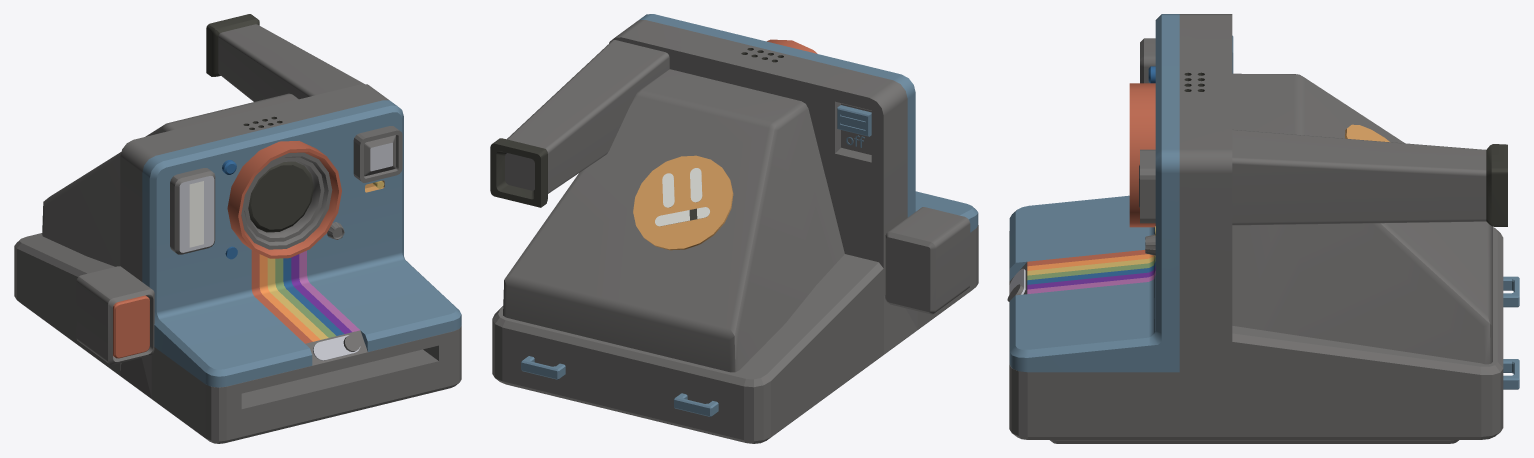
Rendered from Polaroid.fbx.
The picture shows the model from 3 angles, left to right: view 1: azimuth 30°, elevation 25°; view 2: azimuth 150°, elevation 25°; view 3: azimuth 270°, elevation 25°; orthographic projection. The views are drawn at different scales.
Parts seen in each view (by area): view 1: pasted__pasted__polySurface36, pasted__pasted__polySurface9, pasted__pasted__pCylinder1, pasted__pasted__pCube7, pasted__pasted__pCube2, pasted__pasted__polySurface4, pasted__pasted__pCube5, pasted__pasted__pCube4, pasted__pasted__polySurface5, pasted__pasted__polySurface8; view 2: pasted__pasted__pCube2, pasted__pasted__polySurface9, pasted__pasted__polySurface36, pasted__pasted__pCube7, pasted__pasted__polySurface4, pasted__pCube128, pasted__pasted__pCube13, pasted__pasted__pCube9; view 3: pasted__pasted__polySurface36, pasted__pasted__polySurface9, pasted__pasted__pCube2, pasted__pasted__pCube7, pasted__pasted__pCylinder1, pasted__pasted__polySurface10, pasted__pasted__pCube4, pasted__pasted__pCube13, pasted__pasted__pCube5.
Part boxes in pixels (left/top/right/bottom): pasted__pasted__polySurface36: left=120, top=84, right=461, bottom=387; pasted__pasted__polySurface9: left=14, top=233, right=461, bottom=443; pasted__pasted__pCylinder1: left=227, top=141, right=341, bottom=258; pasted__pasted__pCube7: left=206, top=14, right=364, bottom=101; pasted__pasted__pCube2: left=42, top=93, right=298, bottom=266; pasted__pasted__polySurface4: left=76, top=266, right=154, bottom=364; pasted__pasted__pCube5: left=170, top=168, right=215, bottom=254; pasted__pasted__pCube4: left=353, top=126, right=402, bottom=182; pasted__pasted__polySurface5: left=113, top=295, right=149, bottom=358; pasted__pasted__polySurface8: left=313, top=335, right=360, bottom=360; pasted__pasted__pCube2: left=503, top=69, right=844, bottom=372; pasted__pasted__polySurface9: left=492, top=225, right=978, bottom=443; pasted__pasted__polySurface36: left=609, top=14, right=978, bottom=295; pasted__pasted__pCube7: left=490, top=40, right=669, bottom=207; pasted__pasted__polySurface4: left=885, top=207, right=970, bottom=314; pasted__pCube128: left=633, top=155, right=733, bottom=250; pasted__pasted__pCube13: left=521, top=356, right=718, bottom=416; pasted__pasted__pCube9: left=837, top=105, right=871, bottom=136; pasted__pasted__polySurface36: left=1009, top=14, right=1232, bottom=372; pasted__pasted__polySurface9: left=1009, top=227, right=1503, bottom=439; pasted__pasted__pCube2: left=1232, top=73, right=1492, bottom=364; pasted__pasted__pCube7: left=1232, top=129, right=1507, bottom=226; pasted__pasted__pCylinder1: left=1129, top=83, right=1155, bottom=227; pasted__pasted__polySurface10: left=1050, top=440, right=1458, bottom=443; pasted__pasted__pCube4: left=1139, top=149, right=1155, bottom=223; pasted__pasted__pCube13: left=1503, top=276, right=1519, bottom=389; pasted__pasted__pCube5: left=1140, top=38, right=1155, bottom=83.
Size of the model in its own units: 2.92 by 2.33 by 3.59.
